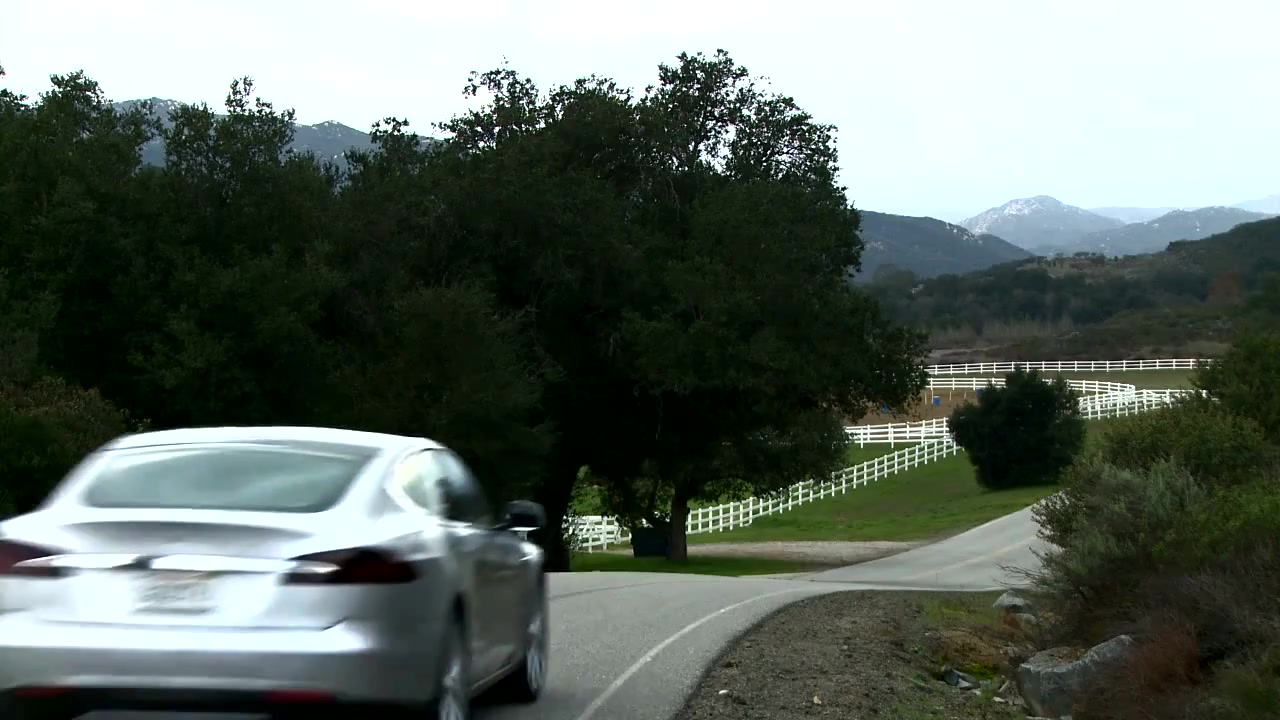car: (4, 429, 556, 720)
